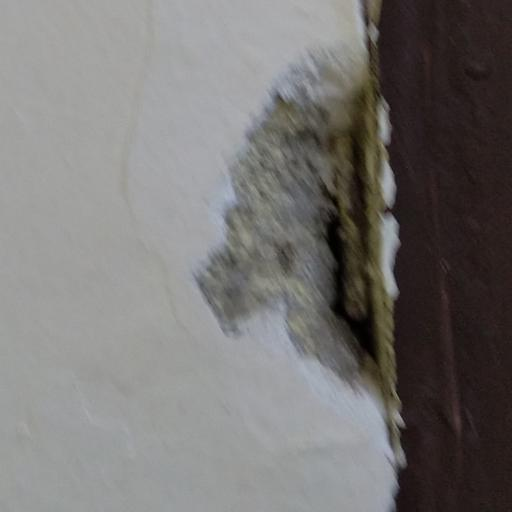spalling: (209, 9, 430, 501)
